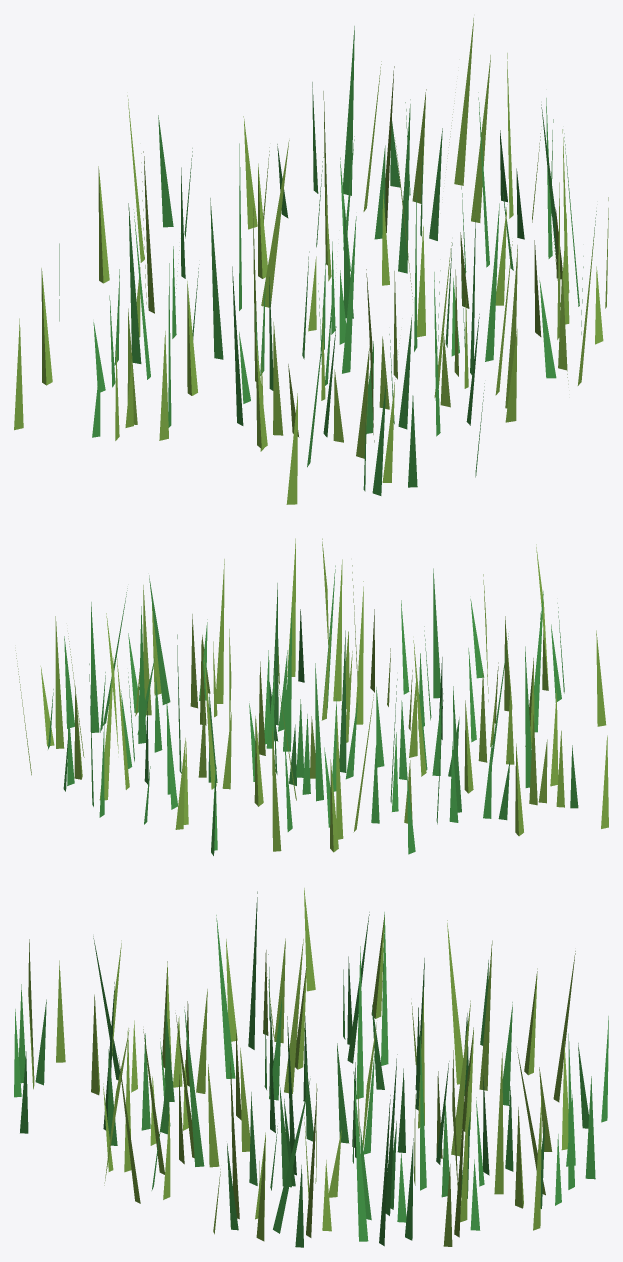
The model's file is grass-patch.glb.
3 views of the same model, one above another, from view 1: azimuth 30°, elevation 25°; view 2: azimuth 150°, elevation 25°; view 3: azimuth 270°, elevation 25° (orthographic). The views are drawn at different scales.
Parts seen in each view (by area): view 1: Node; view 2: Node; view 3: Node.
Part boxes in pixels (bbox=[...]): Node: bbox=[14, 18, 608, 504]; Node: bbox=[15, 538, 608, 855]; Node: bbox=[14, 888, 608, 1247].
Bounding box in the file's own units: 2.64 × 0.8893 × 2.44.
